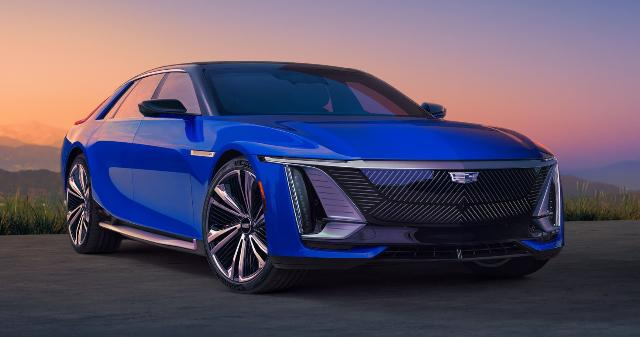cadillac: (61, 60, 564, 294)
